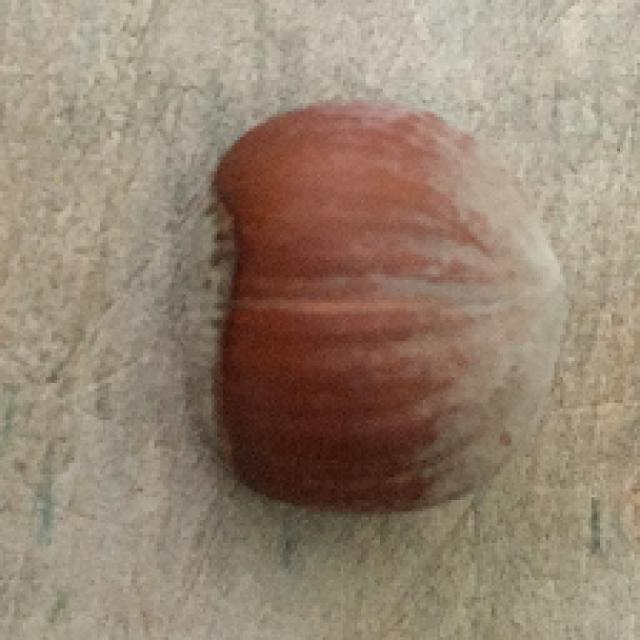qualityHazelnut: (179, 102, 568, 512)
